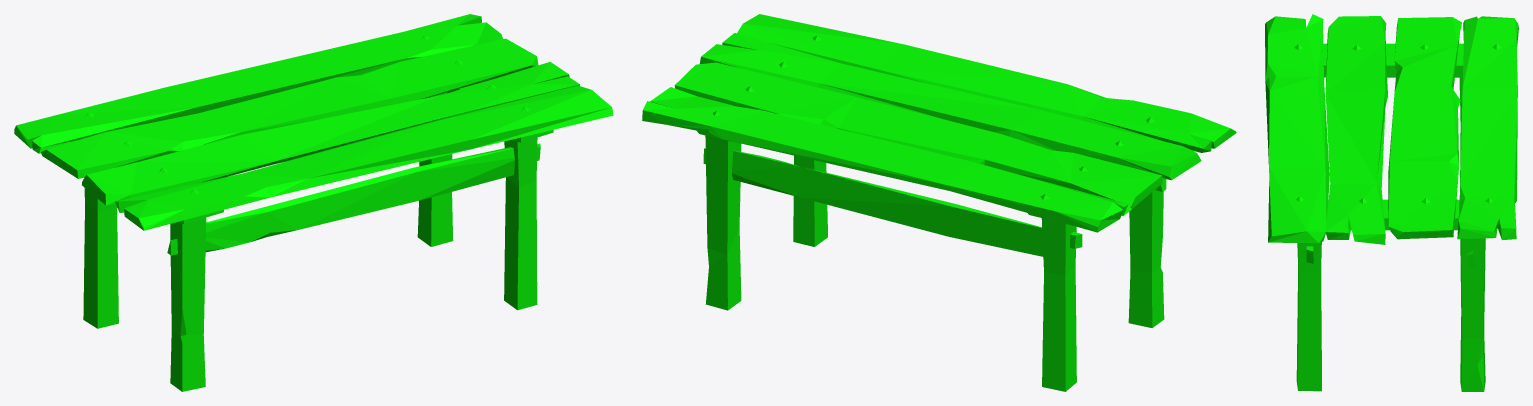
File: SM_Table_Simple_Market_Fantasy.fbx
3 renders of one model, left to right at view 1: azimuth 30°, elevation 25°; view 2: azimuth 150°, elevation 25°; view 3: azimuth 270°, elevation 25°, orthographic. The views are drawn at different scales.
Parts seen in each view (by area): view 1: table-simple-market-fantasy; view 2: table-simple-market-fantasy; view 3: table-simple-market-fantasy.
Boxes of the visible parts, left/top/right/bottom form: table-simple-market-fantasy: left=14, top=14, right=613, bottom=391; table-simple-market-fantasy: left=642, top=14, right=1236, bottom=391; table-simple-market-fantasy: left=1265, top=14, right=1518, bottom=391.
Size of the model in its own units: 2 by 0.8058 by 0.9783.
